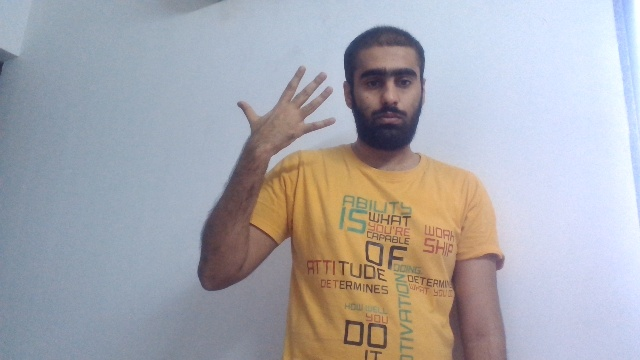paper: (236, 64, 336, 158)
